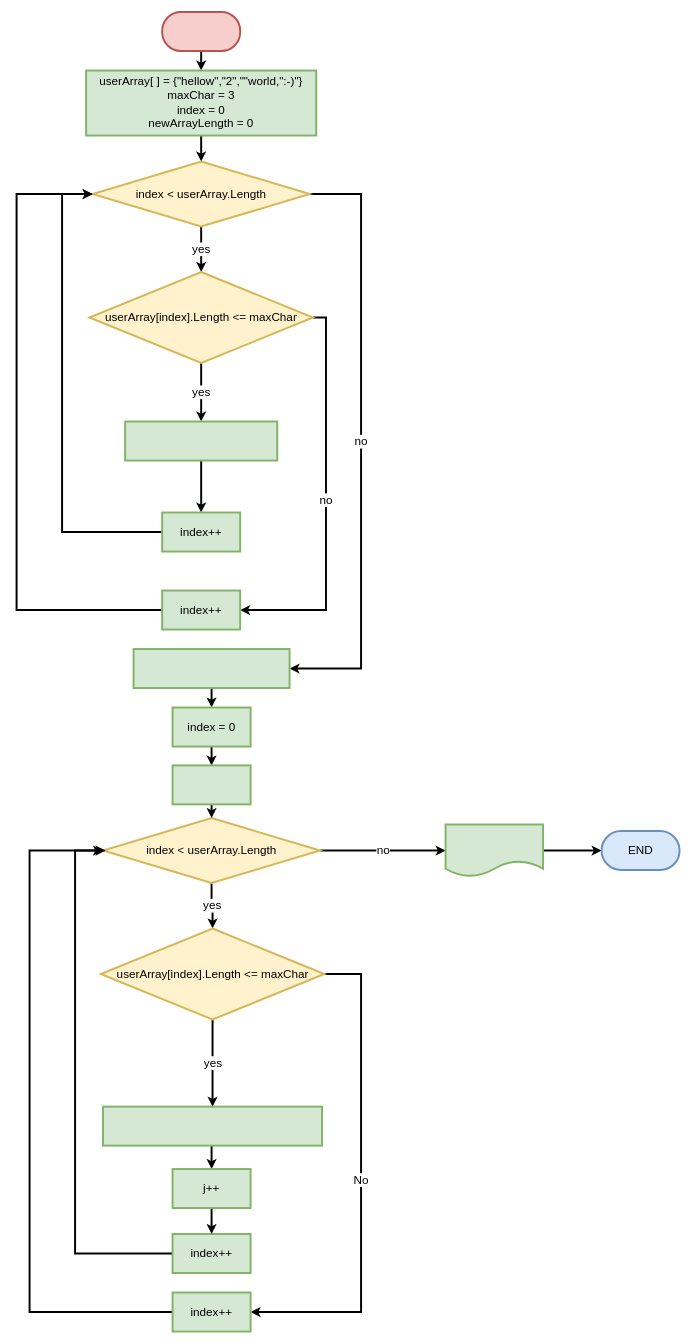
This 692x1344 diagram has some shape labels left out. Here are the shapes that lost their labels. From the top down, the centre of each, then its label:
At point (201, 31): "START".
At point (201, 440): "newArrayLength++".
At point (211, 668): "newArray[newArrayLength]".
At point (211, 784): "j = 0".
At point (494, 850): "newArray".
At point (212, 1125): "newArray[j] = userArray[index]".
